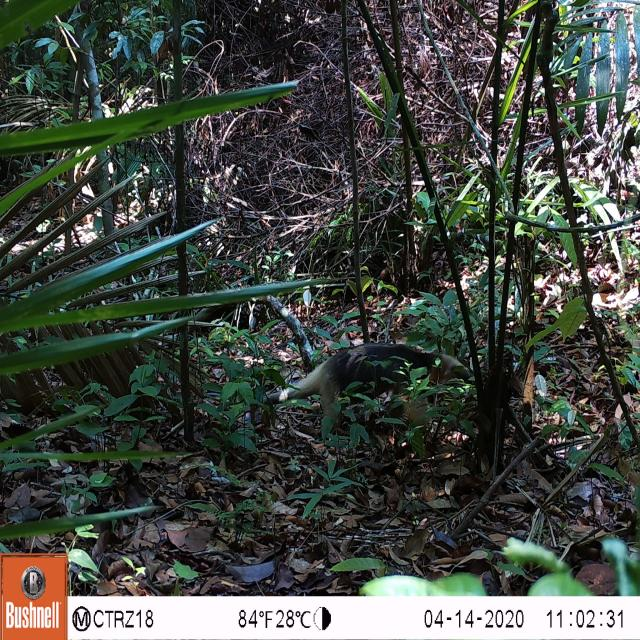Southern Tamandua: (295, 344, 459, 443)
